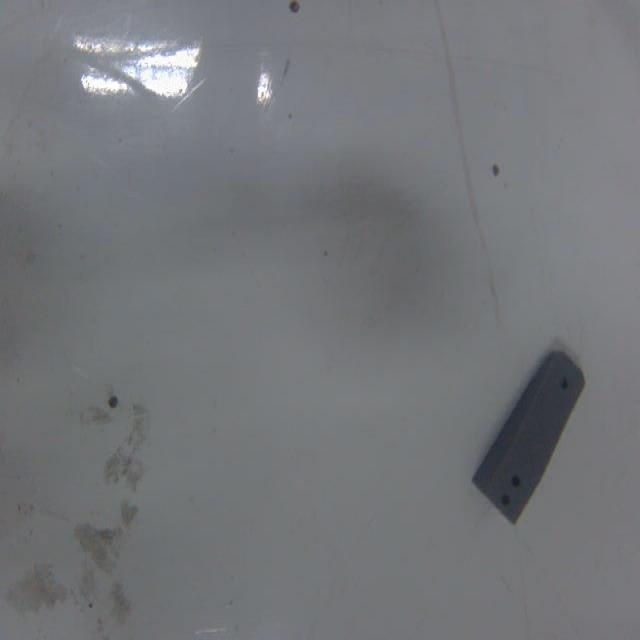grey: (476, 346, 588, 528)
head: (556, 375, 569, 392)
